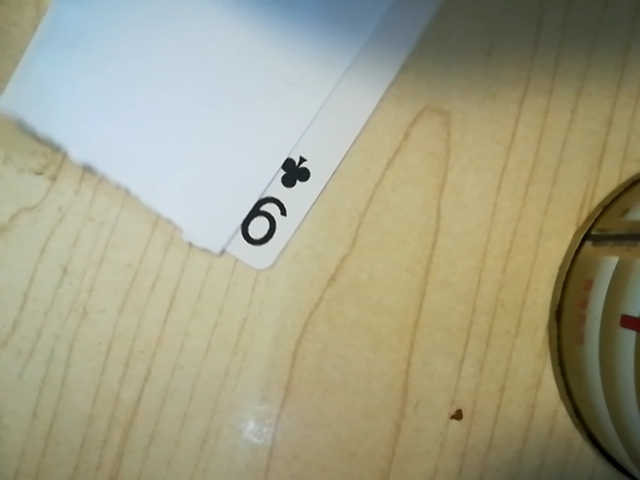mh 9: (226, 143, 317, 259)
